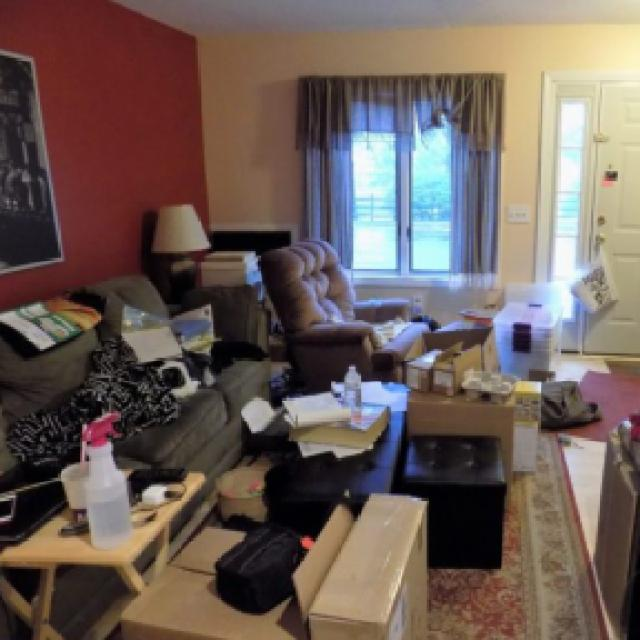scattered-items: (269, 218, 619, 513), (0, 293, 238, 487)
